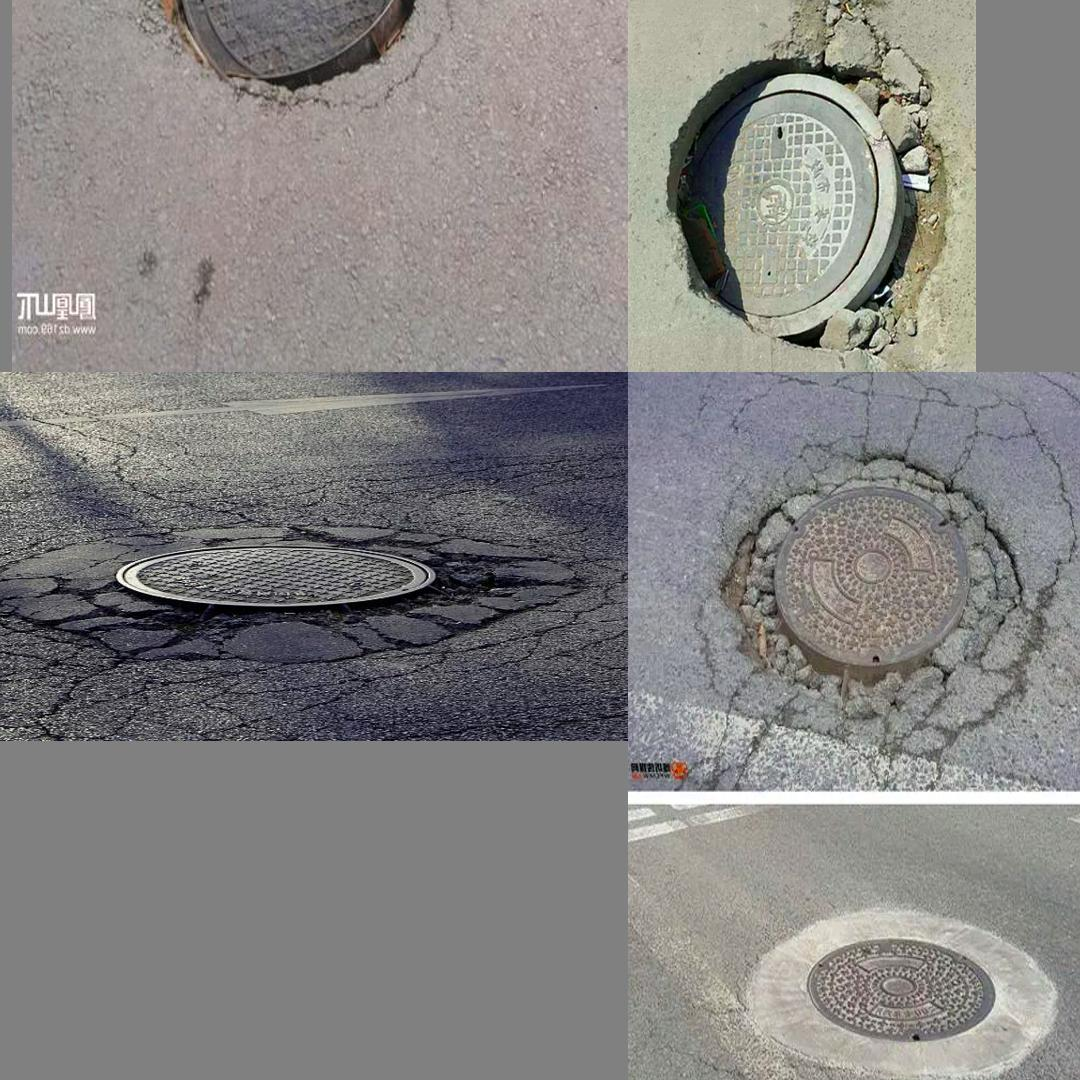circle: (695, 450, 1041, 739), (667, 0, 941, 345), (0, 508, 548, 679), (126, 0, 471, 114)
